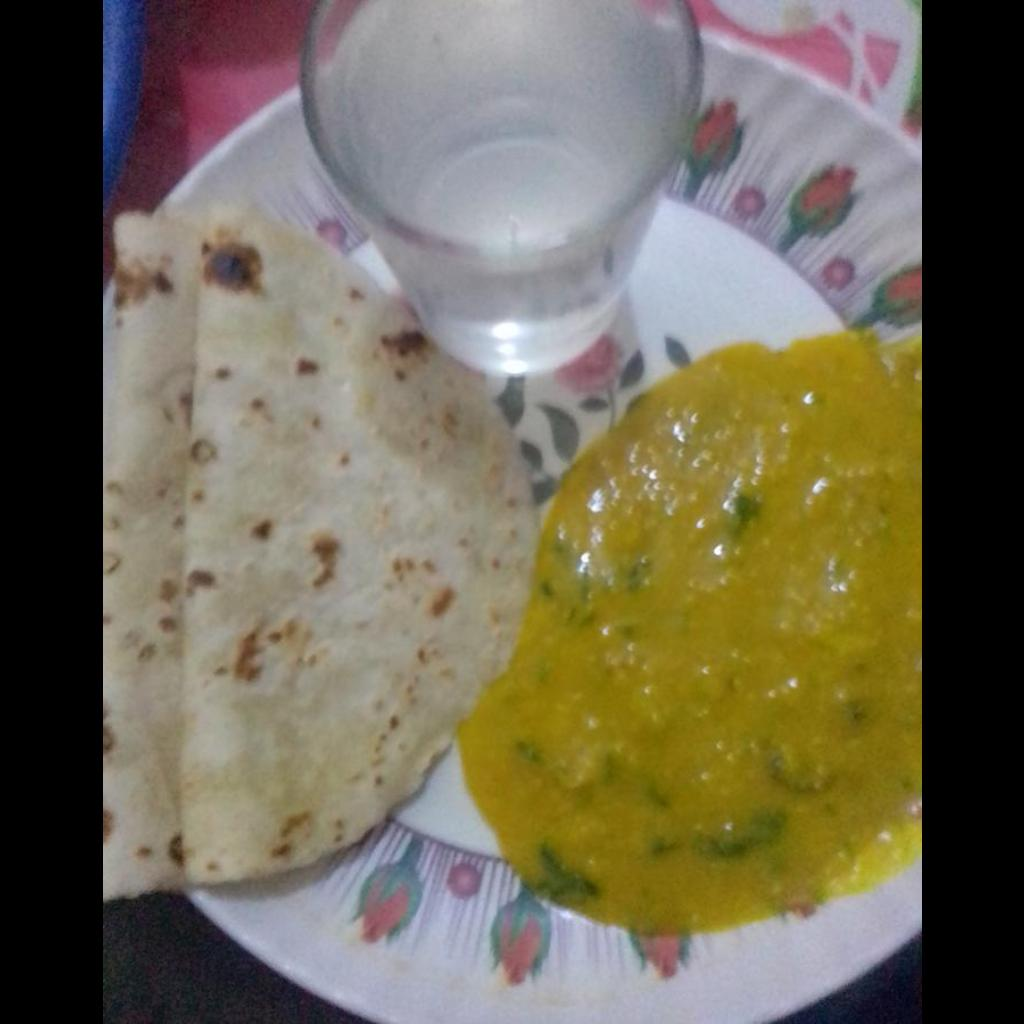daal: (457, 339, 919, 931)
juice: (327, 1, 675, 238)
ruti: (102, 211, 522, 896)
